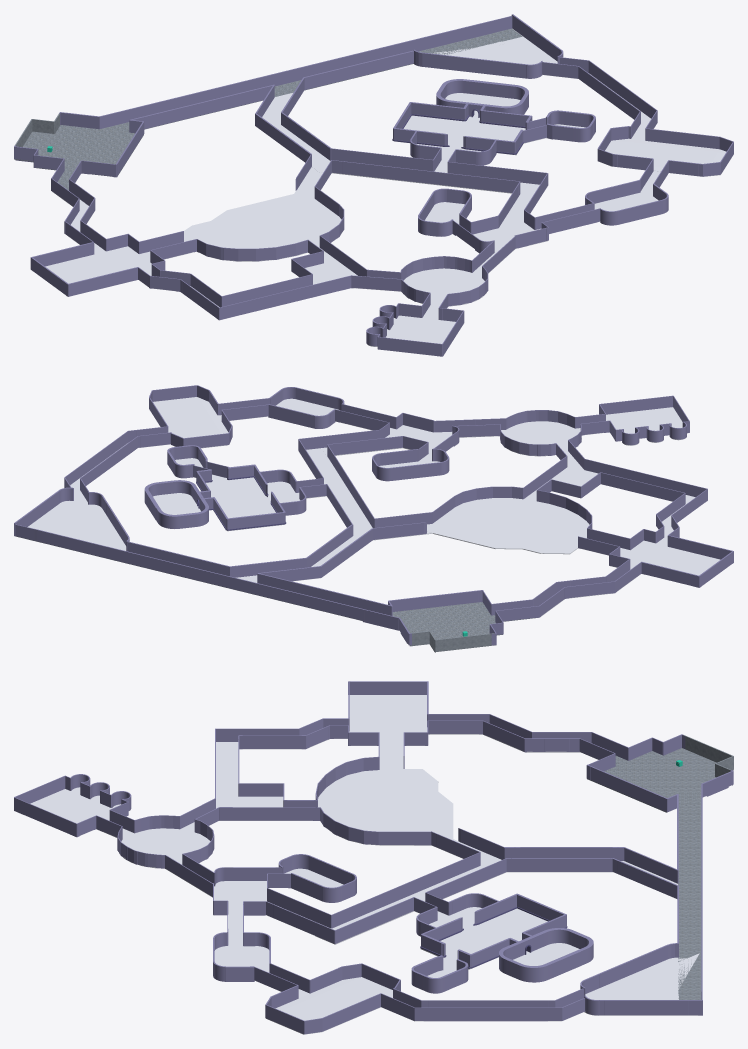
Rendered from AnotherTest.obj.
3 renders of one model, top to bottom at view 1: azimuth 30°, elevation 25°; view 2: azimuth 150°, elevation 25°; view 3: azimuth 270°, elevation 25°, orthographic. The views are drawn at different scales.
Visible parts, largest first — view 1: mergedBlocks; view 2: mergedBlocks; view 3: mergedBlocks.
Part boxes in pixels (box(x1,y1,x2,y2)): mergedBlocks: box(14, 14, 733, 356); mergedBlocks: box(14, 385, 733, 652); mergedBlocks: box(14, 681, 733, 1034).
Bounding box in the file's own units: 100 × 2.24 × 89.65.
7 materials, 2 textured.
